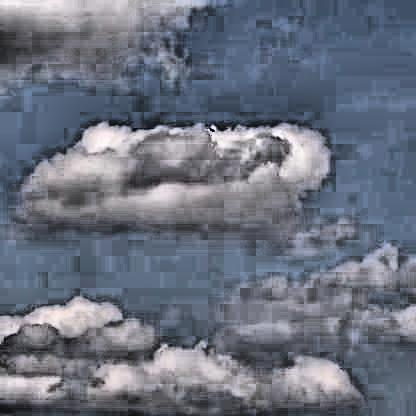golfball: (205, 122, 212, 129)
